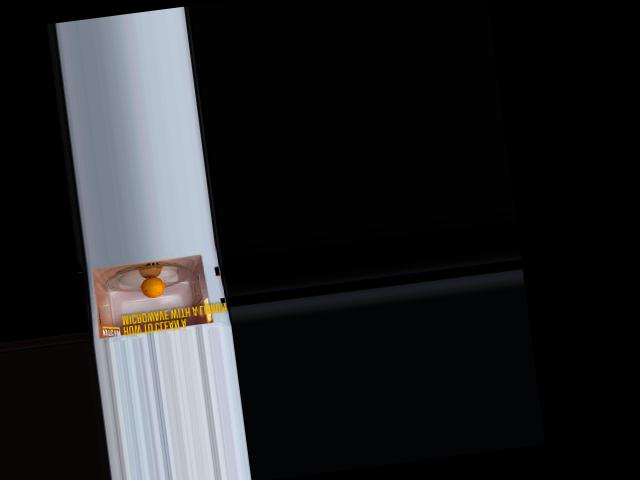lemon: (138, 270, 178, 301)
